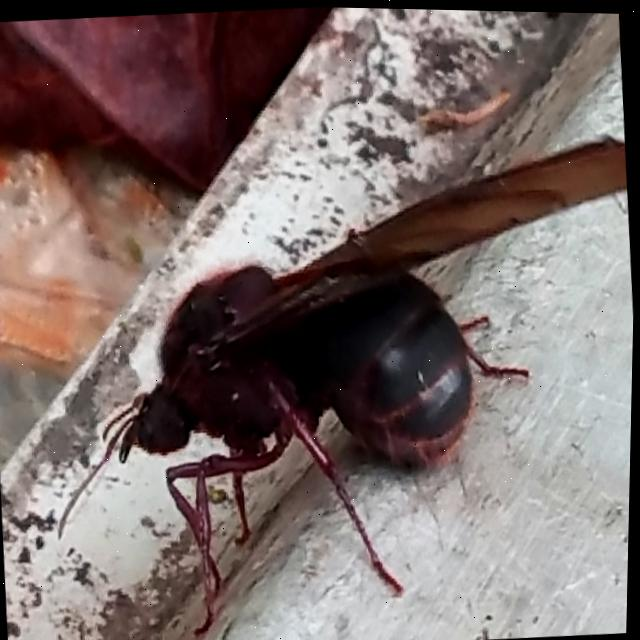Alive-Female-Alate: (30, 119, 638, 640)
